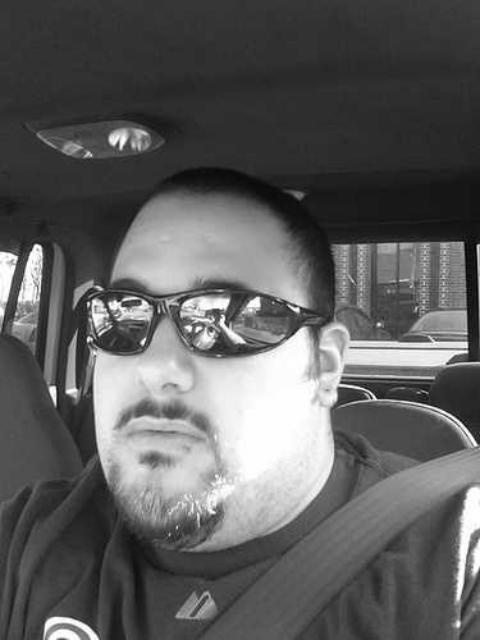Seatbelt: (192, 438, 480, 640)
